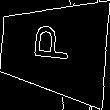P_W: (32, 29, 76, 70)
